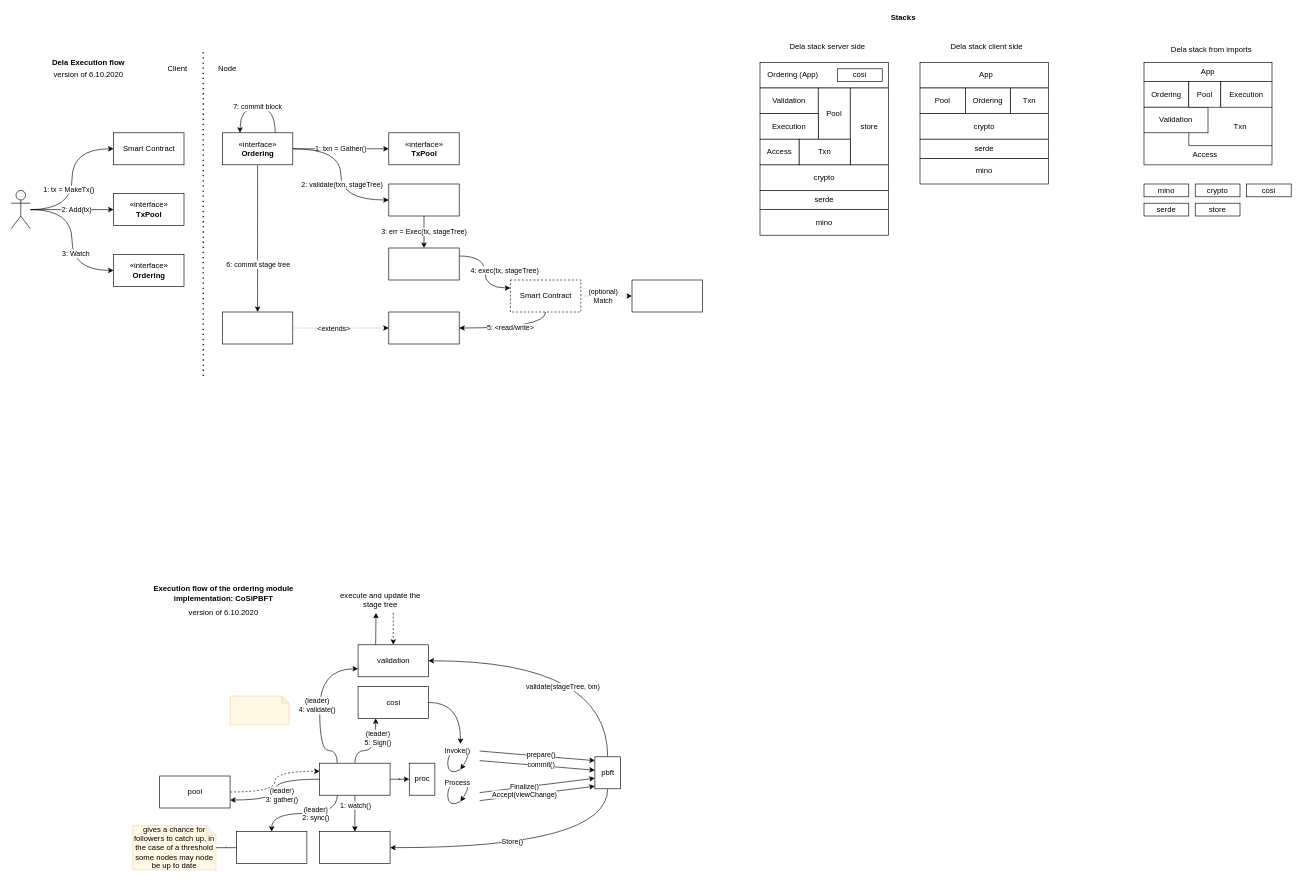
Some shapes in this 1302 by 881 pixel diagram are drawn without their labels. The centre of each missing label's shape, as x and y in pixels:
Actor: [20,209]
blockstore: [354,847]
blocksync: [271,847]
cosipbft: [354,779]
create a block and validate it: [259,710]
Tree: [257,327]
«interface» Access: [666,295]
«interface» Execution: [423,263]
«interface» Store: [423,327]
«interface» Validation: [423,199]
